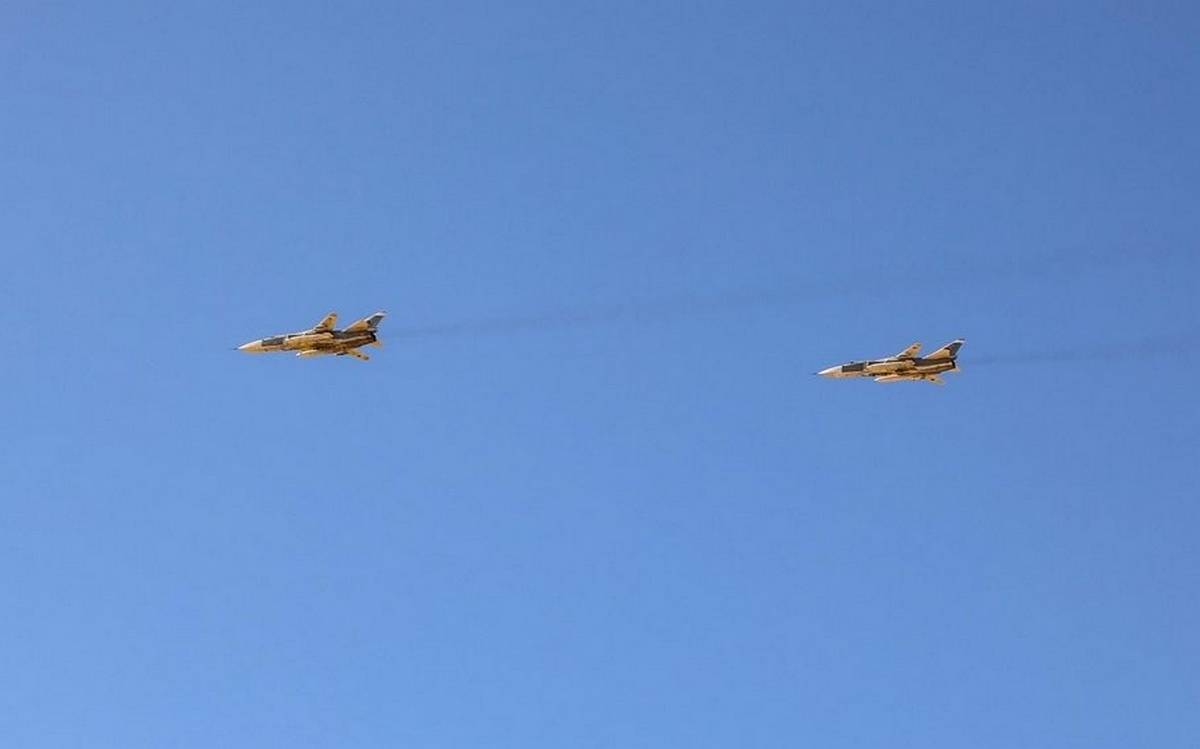airplane: (227, 309, 389, 362), (808, 337, 968, 387)
